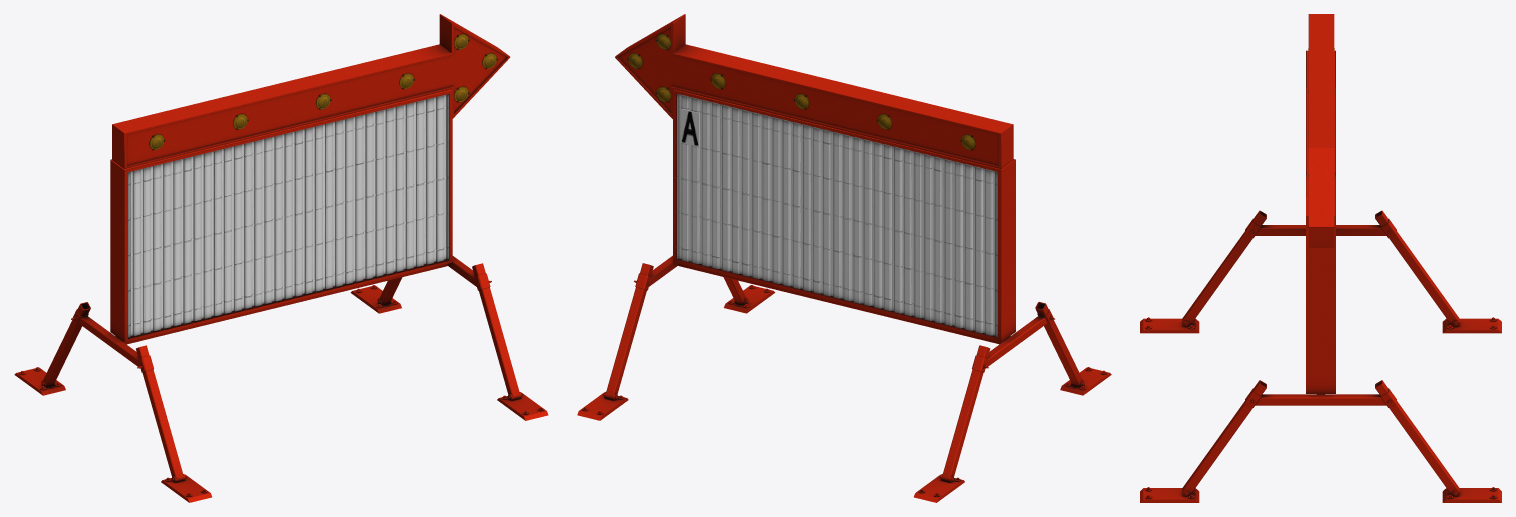
Rendered from marquee_sign_lod1.fbx.
The picture shows the model from 3 angles, left to right: view 1: azimuth 30°, elevation 25°; view 2: azimuth 150°, elevation 25°; view 3: azimuth 270°, elevation 25°; orthographic projection. The views are drawn at different scales.
Visible parts, largest first — view 1: marquee, arrow, stand; view 2: marquee, arrow, stand, letter_a; view 3: stand, arrow, marquee.
Boxes of the visible parts, box(x1,y1,x2,y2) form: marquee: box(110, 89, 452, 342); arrow: box(112, 14, 510, 168); stand: box(14, 256, 548, 502); marquee: box(673, 89, 1015, 342); arrow: box(615, 14, 1013, 168); stand: box(577, 255, 1111, 502); letter_a: box(681, 109, 699, 146); stand: box(1140, 210, 1501, 502); arrow: box(1308, 14, 1334, 247); marquee: box(1306, 50, 1335, 393).
Size of the model in its own units: 257 by 205 by 194.
